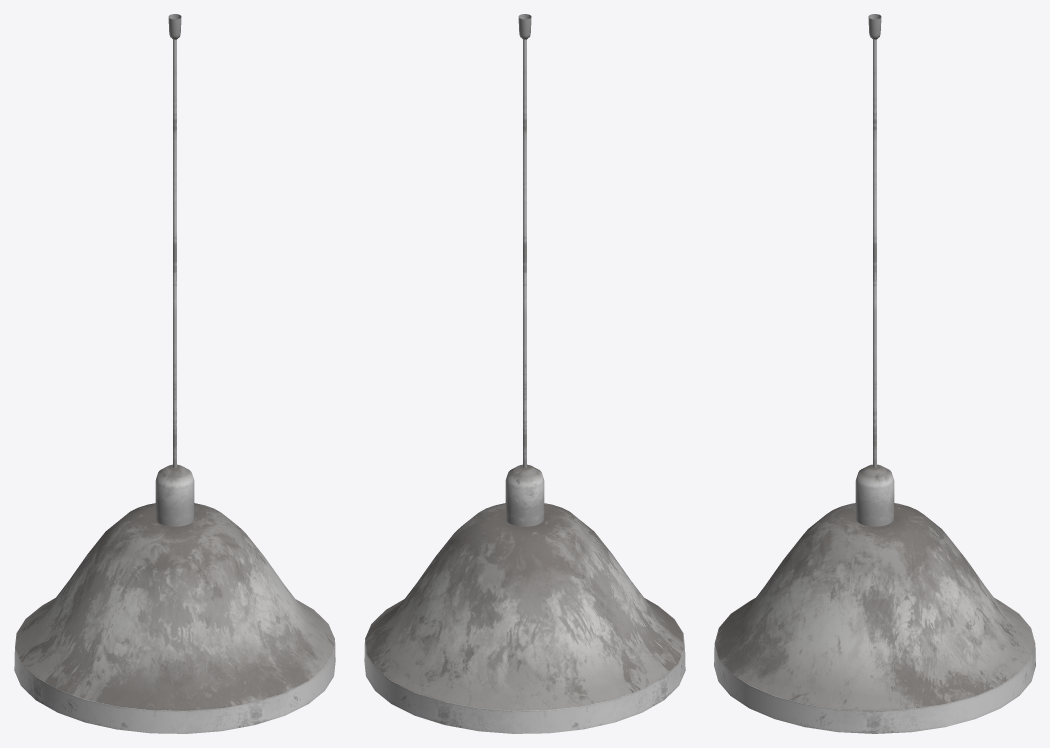
File: SM_Light_Ceiling.fbx
The picture shows the model from 3 angles, left to right: view 1: azimuth 30°, elevation 25°; view 2: azimuth 150°, elevation 25°; view 3: azimuth 270°, elevation 25°; orthographic projection.
Parts seen in each view (by area): view 1: SM_Light_Ceiling; view 2: SM_Light_Ceiling; view 3: SM_Light_Ceiling.
Boxes of the visible parts, left/top/right/bottom form: SM_Light_Ceiling: left=14, top=14, right=335, bottom=733; SM_Light_Ceiling: left=364, top=14, right=685, bottom=733; SM_Light_Ceiling: left=714, top=14, right=1035, bottom=733.
Bounding box in the file's own units: 62.74 × 62.74 × 140.
Materials: 2 (2 with a texture image).
